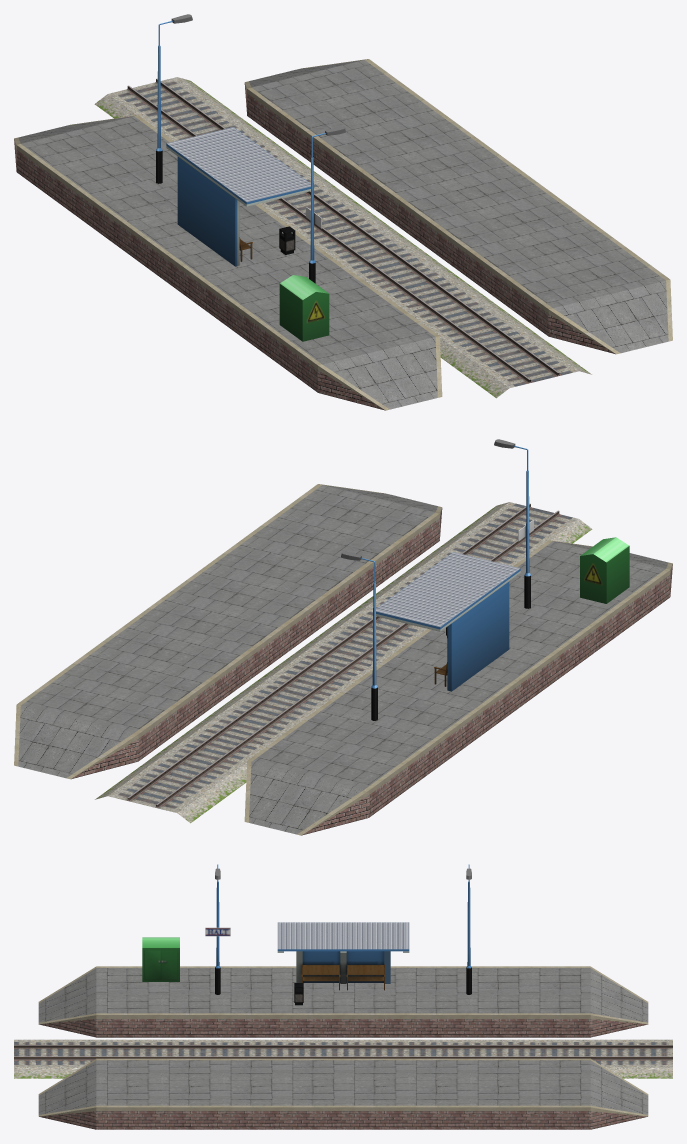
Rendered from StationHalt1.fbx.
3 views of the same model, one above another, from view 1: azimuth 30°, elevation 25°; view 2: azimuth 150°, elevation 25°; view 3: azimuth 270°, elevation 25° (orthographic). The views are drawn at different scales.
Parts seen in each view (by area): view 1: U3DMesh; view 2: U3DMesh; view 3: U3DMesh.
Part boxes in pixels (x1=…): U3DMesh: x1=14, y1=14, x2=672, y2=410; U3DMesh: x1=14, y1=439, x2=672, y2=835; U3DMesh: x1=14, y1=864, x2=672, y2=1129.
Size of the model in its own units: 16.2 by 8.2 by 32.
